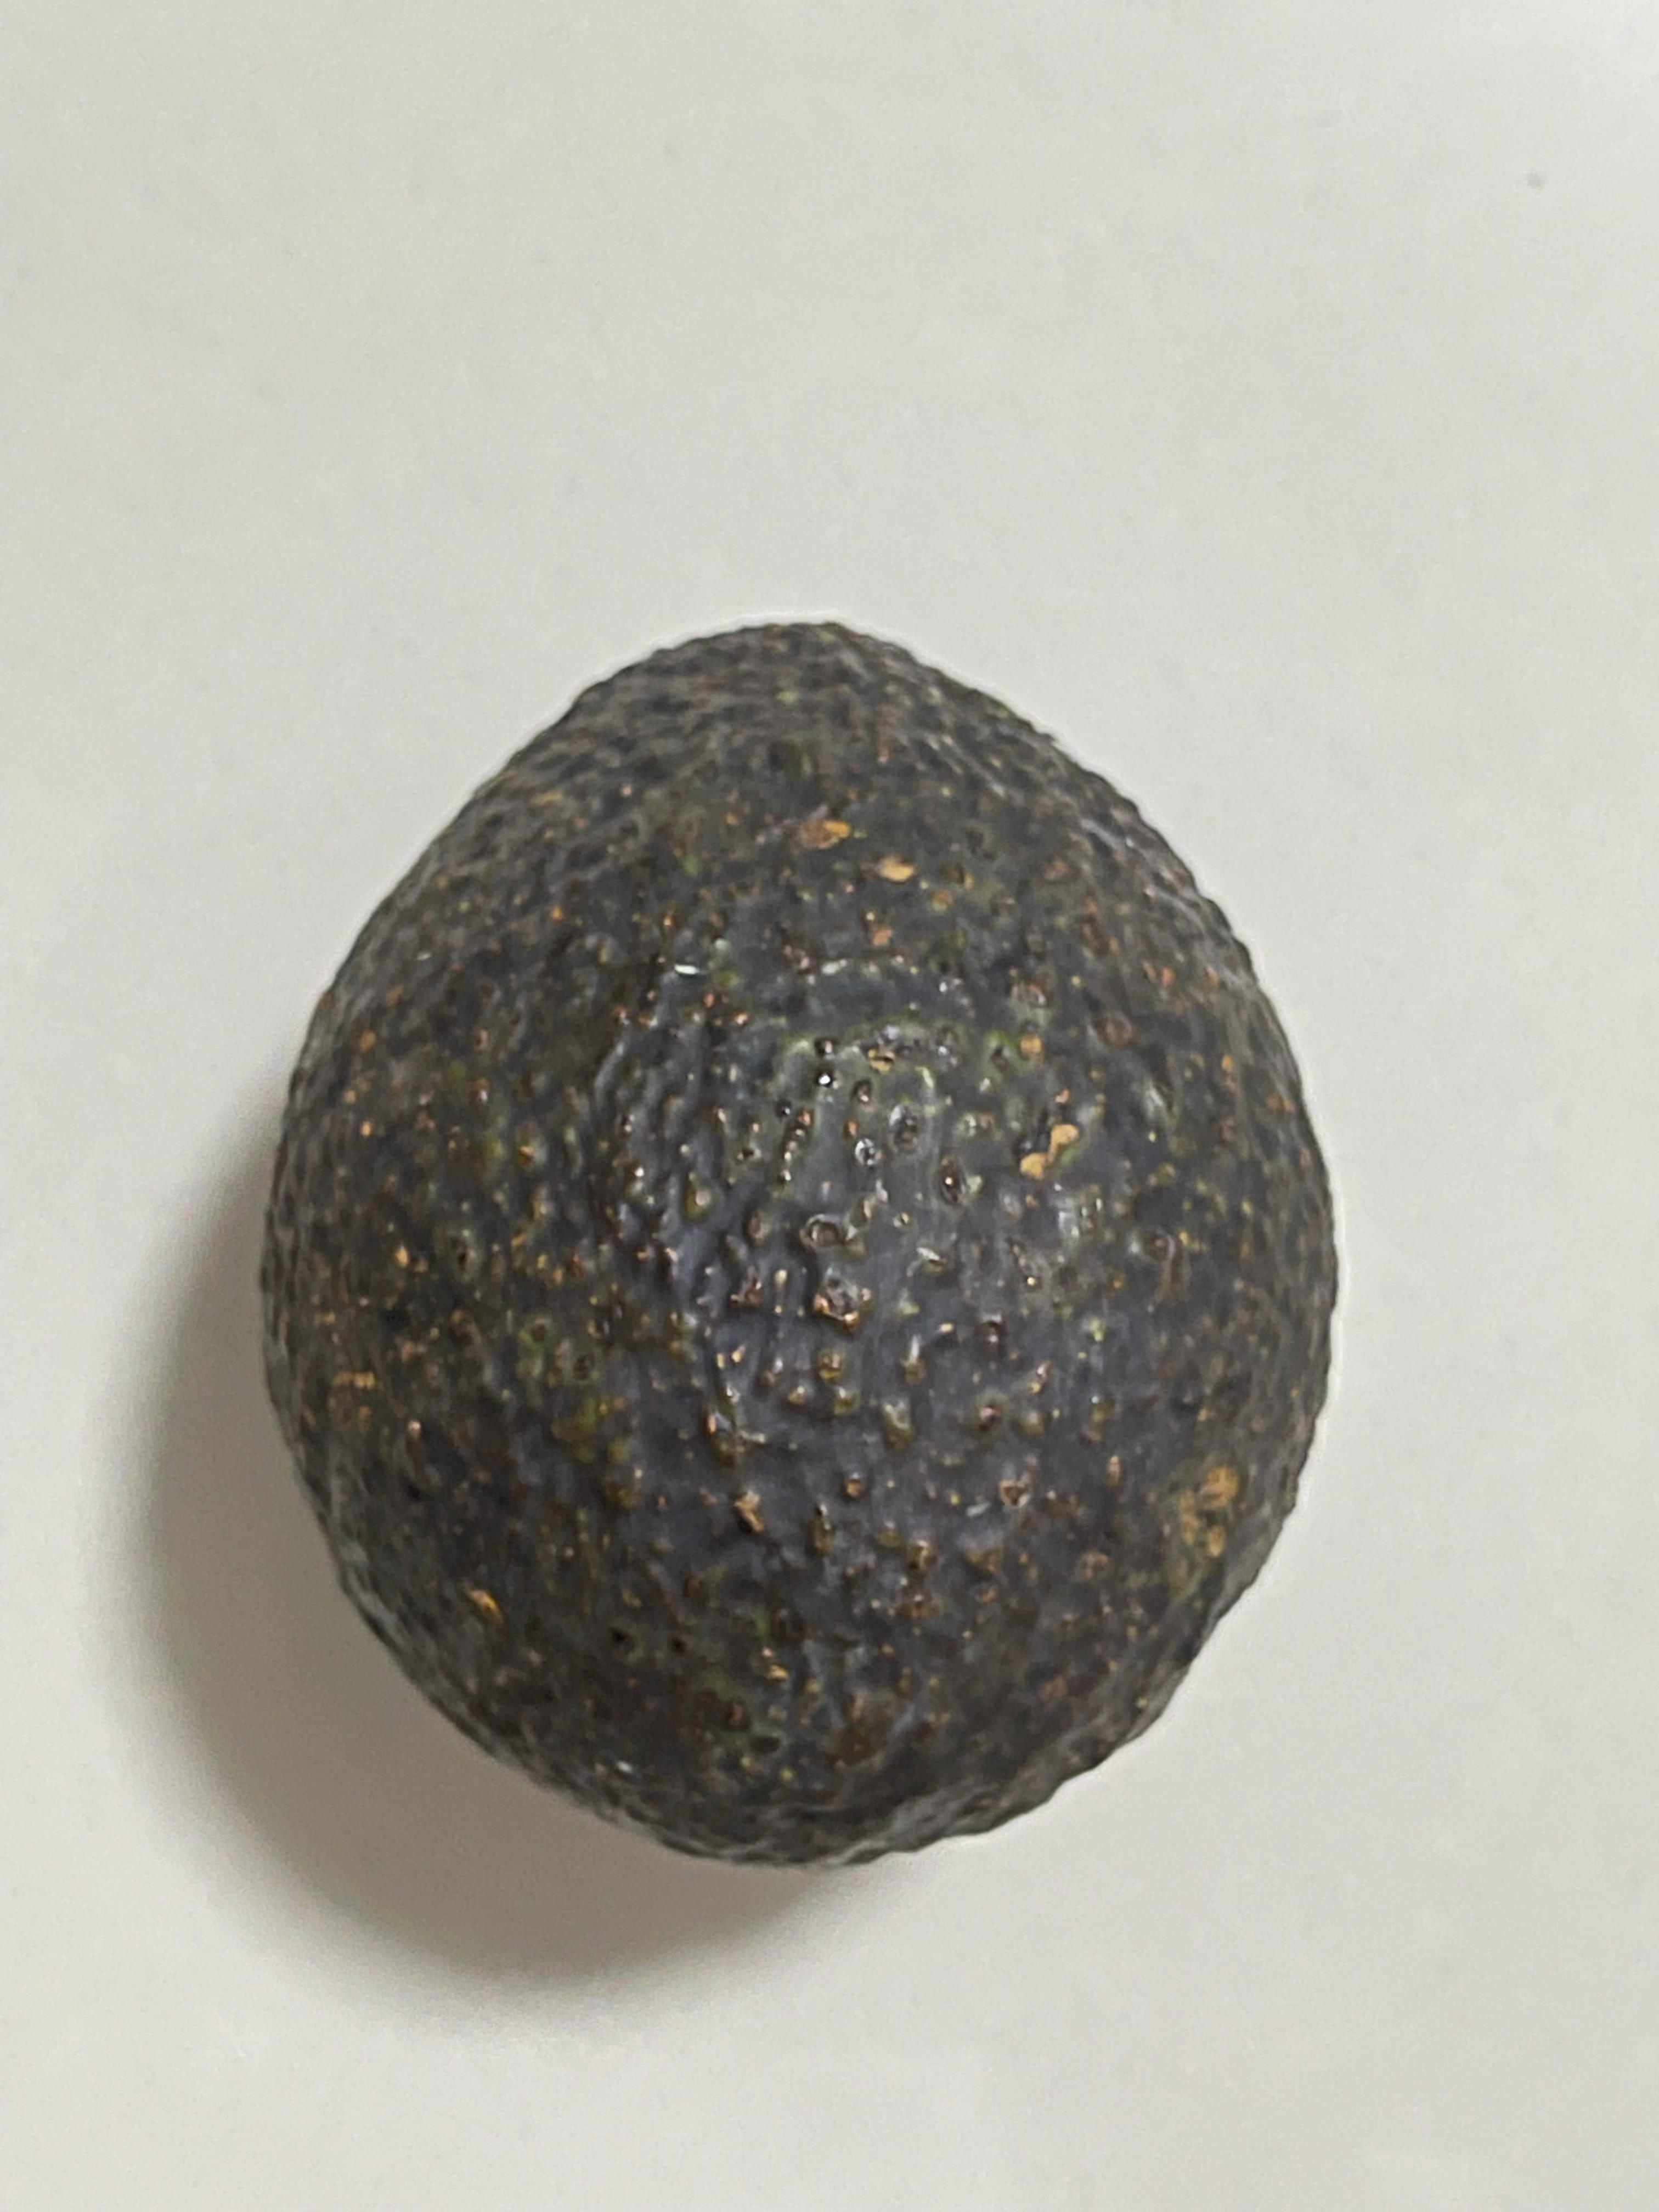Level2: (235, 597, 1354, 1888)
